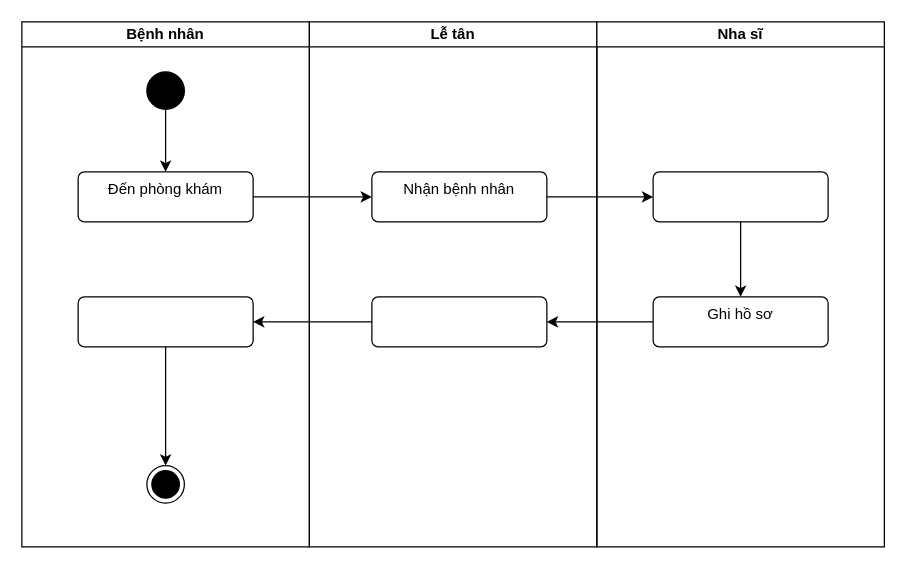
Image size: 906x569. Some labels were removed from this diagram. Each missing label, with the centre of its shape:
"Khám, chẩn đoán" goes at (x=740, y=196).
"Thanh toán" goes at (x=165, y=321).
"Tạo hóa đơn" goes at (x=459, y=321).
